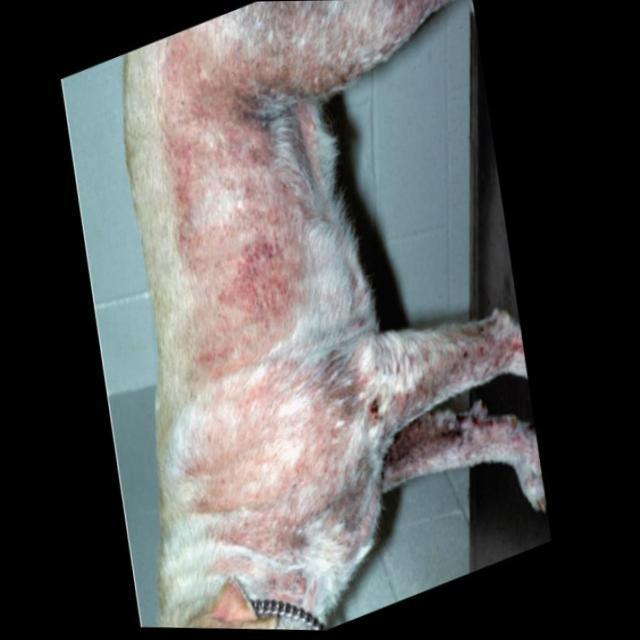mange: (163, 38, 359, 372), (187, 360, 366, 558)
